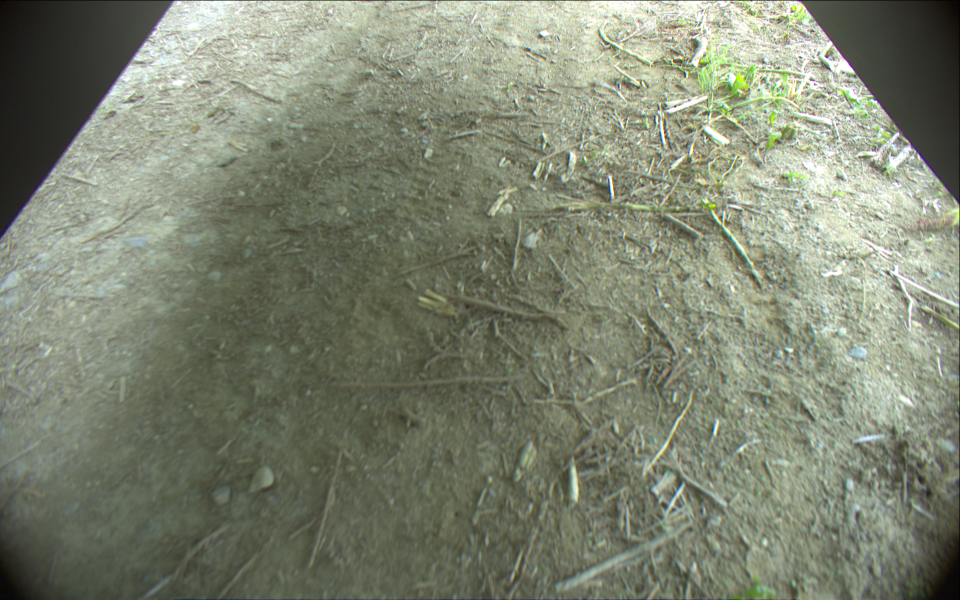aspa: (704, 197, 757, 274), (702, 58, 818, 78), (599, 29, 653, 66), (557, 199, 703, 211), (728, 97, 799, 115)
